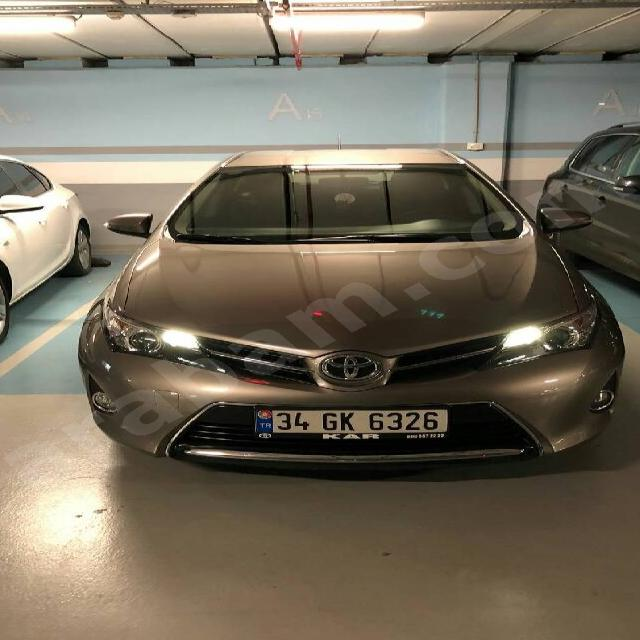license_plate: (254, 407, 449, 434)
